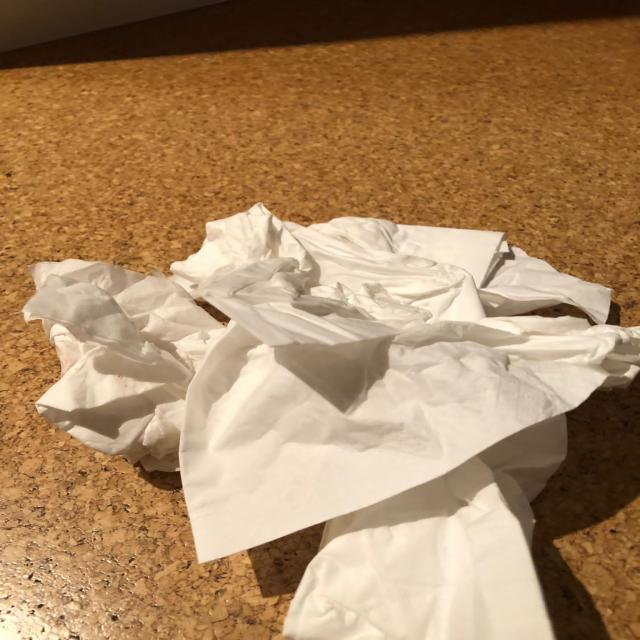kitchen paper: (175, 261, 640, 570), (273, 400, 575, 640), (162, 199, 612, 328), (29, 255, 221, 481)
